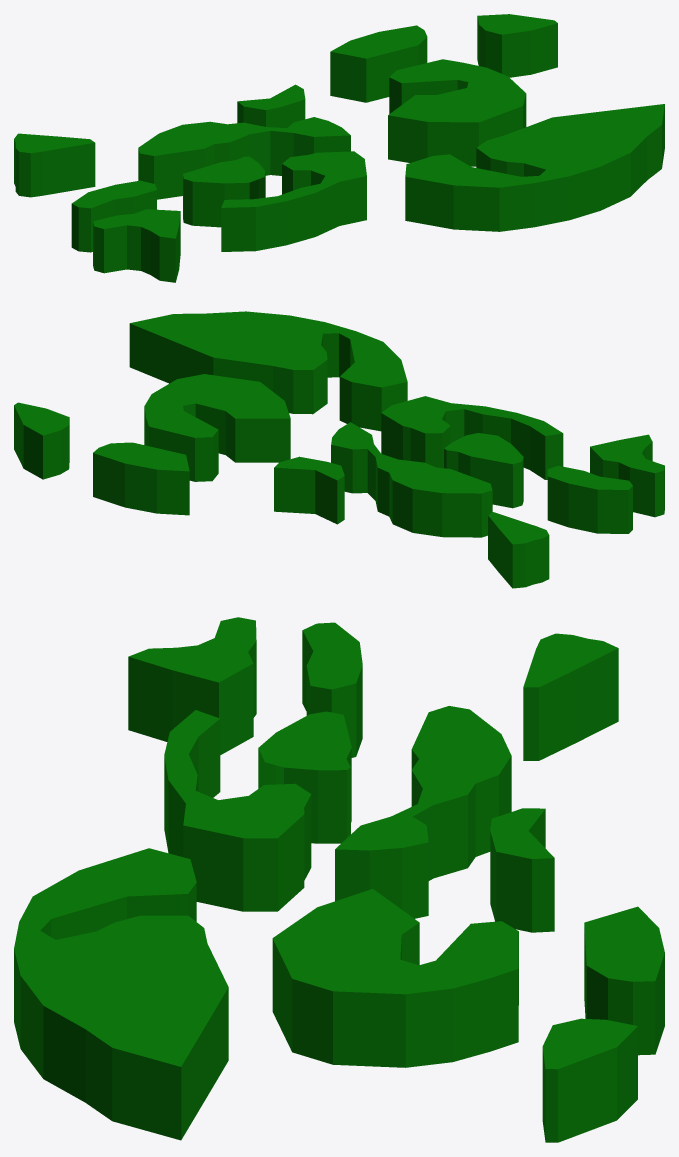
File: Test_pared_inv.fbx
The picture shows the model from 3 angles, top to bottom: view 1: azimuth 30°, elevation 25°; view 2: azimuth 150°, elevation 25°; view 3: azimuth 270°, elevation 25°; orthographic projection. The views are drawn at different scales.
Visible parts, largest first — view 1: pCube224; view 2: pCube224; view 3: pCube224.
Part boxes in pixels (x1,y1,x2,y2): pCube224: (14, 14, 664, 282); pCube224: (14, 311, 664, 588); pCube224: (14, 617, 664, 1142).
Bounding box in the file's own units: 68.1 × 5.17 × 41.45.
